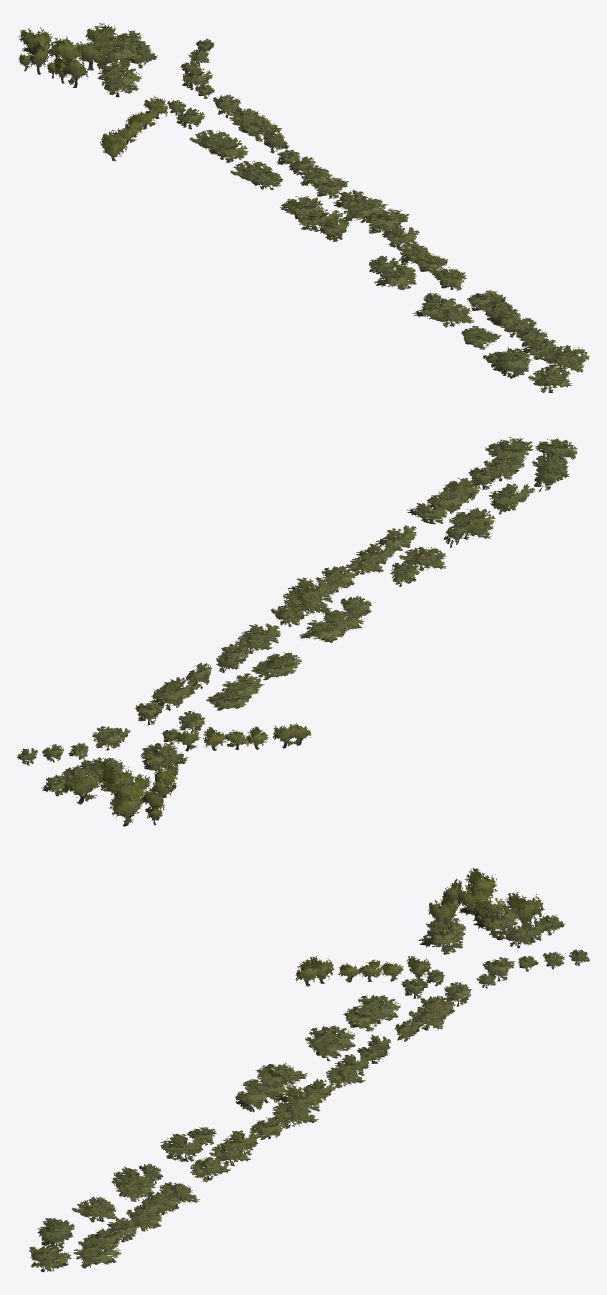
The picture shows the model from 3 angles, top to bottom: view 1: azimuth 30°, elevation 25°; view 2: azimuth 150°, elevation 25°; view 3: azimuth 330°, elevation 25°; orthographic projection. The views are drawn at different scales.
Visible parts, largest first — view 1: object 1; view 2: object 1; view 3: object 1.
Boxes of the visible parts, x1,y1,x2,y2 form: object 1: [18, 22, 589, 392]; object 1: [16, 437, 577, 824]; object 1: [29, 867, 590, 1271].
Size of the model in its own units: 110 by 17.61 by 458.
Materials: 3 (3 with a texture image).
